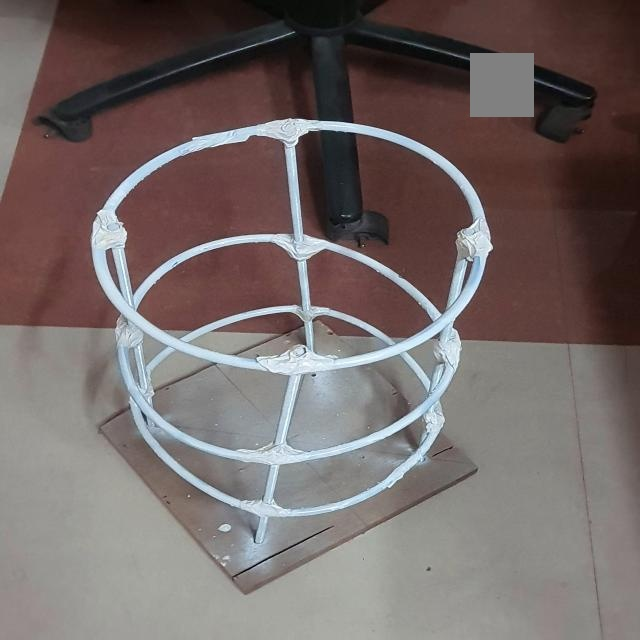silo: (83, 118, 474, 551)
